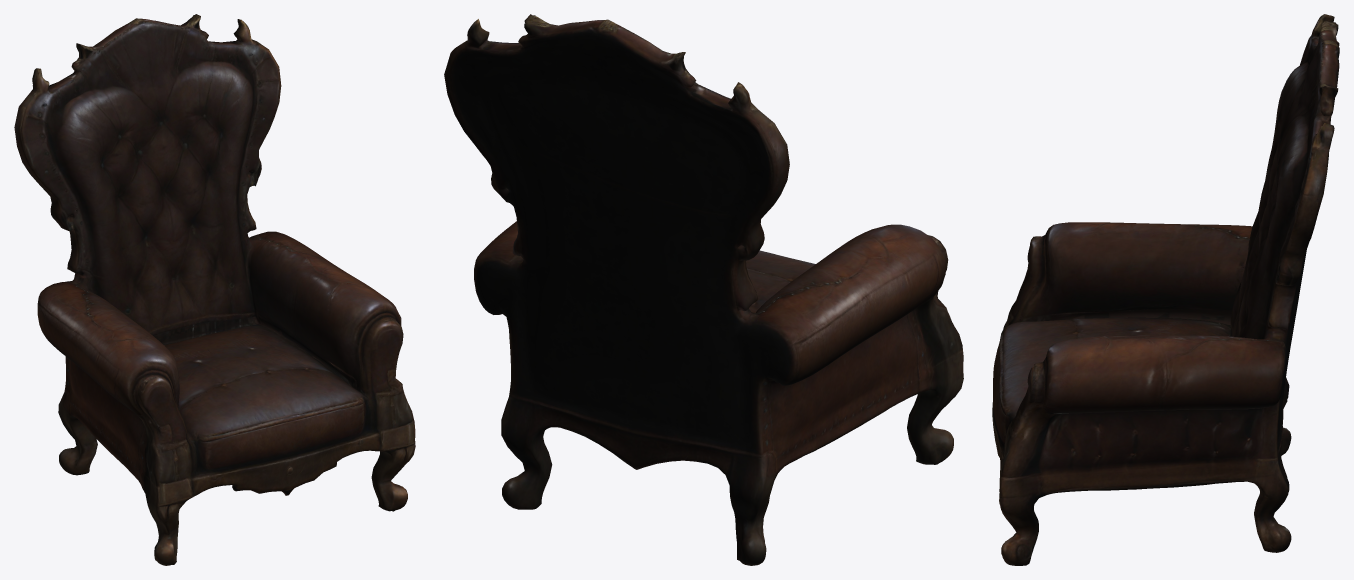
Rendered from sillion2.glb.
The picture shows the model from 3 angles, left to right: view 1: azimuth 30°, elevation 25°; view 2: azimuth 150°, elevation 25°; view 3: azimuth 270°, elevation 25°; orthographic projection. The views are drawn at different scales.
Bounding box in the file's own units: 1.42 × 1.99 × 1.36.
1 material, 1 textured.
